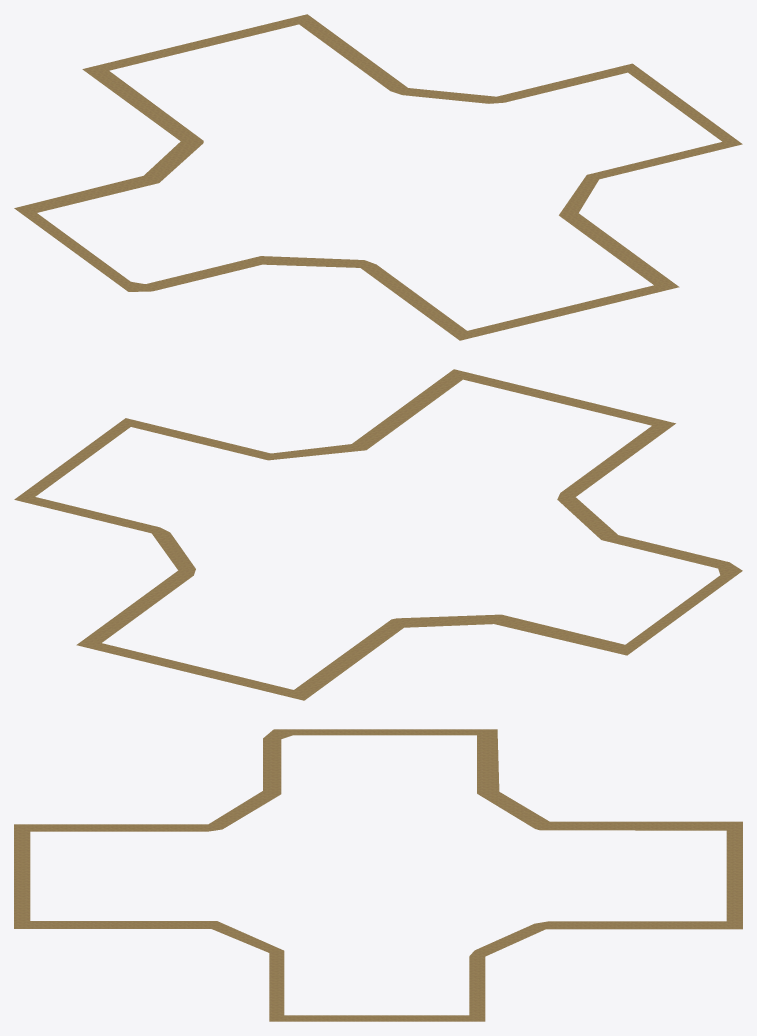
The model's file is guchengqishituan_qiangzhuan_06.FBX.
The picture shows the model from 3 angles, top to bottom: view 1: azimuth 30°, elevation 25°; view 2: azimuth 150°, elevation 25°; view 3: azimuth 270°, elevation 25°; orthographic projection. The views are drawn at different scales.
Parts seen in each view (by area): view 1: guchengqishituan_qiangzhuan_6; view 2: guchengqishituan_qiangzhuan_6; view 3: guchengqishituan_qiangzhuan_6.
Part boxes in pixels (bbox=[...]): guchengqishituan_qiangzhuan_6: bbox=[14, 14, 742, 340]; guchengqishituan_qiangzhuan_6: bbox=[14, 369, 742, 700]; guchengqishituan_qiangzhuan_6: bbox=[14, 729, 742, 1021].
Size of the model in its own units: 34982 by 0.00621 by 36886.
